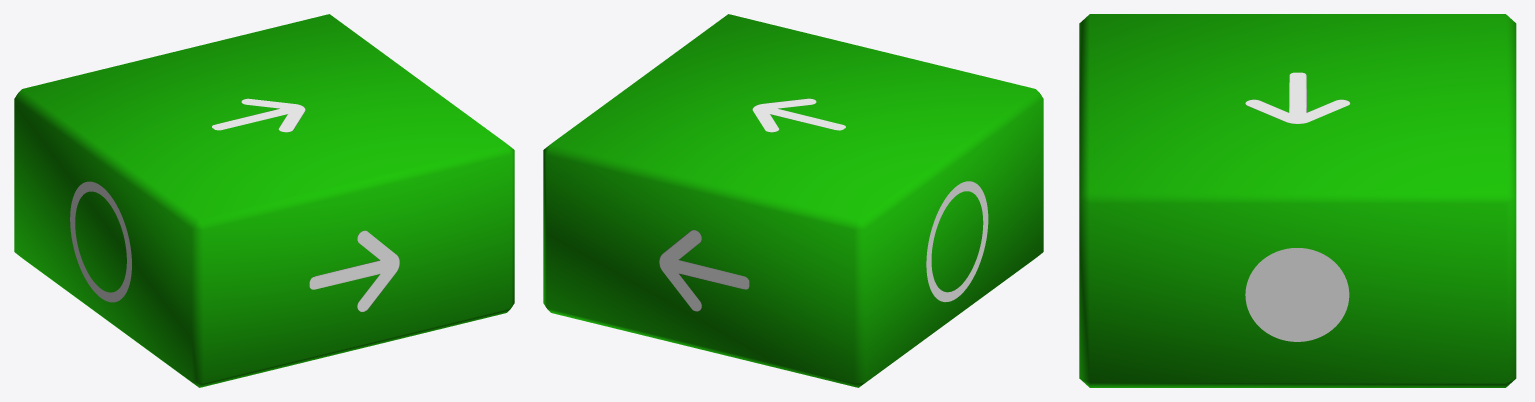
File: BigBoxTapFlowBox_2_1_2_Clean_test2.fbx
The picture shows the model from 3 angles, left to right: view 1: azimuth 30°, elevation 25°; view 2: azimuth 150°, elevation 25°; view 3: azimuth 270°, elevation 25°; orthographic projection. The views are drawn at different scales.
Visible parts, largest first — view 1: BigBoxTapFlowBox_2_1_2_Clean_test; view 2: BigBoxTapFlowBox_2_1_2_Clean_test; view 3: BigBoxTapFlowBox_2_1_2_Clean_test.
Part boxes in pixels (x1,y1,x2,y2): BigBoxTapFlowBox_2_1_2_Clean_test: [14, 14, 514, 387]; BigBoxTapFlowBox_2_1_2_Clean_test: [543, 14, 1043, 387]; BigBoxTapFlowBox_2_1_2_Clean_test: [1079, 14, 1516, 387].
Bounding box in the file's own units: 2.11 × 1.06 × 2.15.
